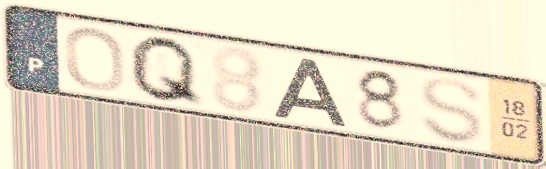8: (209, 44, 267, 116), (353, 67, 406, 133)
A: (269, 56, 350, 128)
O: (61, 25, 128, 94)
Q: (126, 33, 207, 110)
S: (417, 75, 487, 146)
